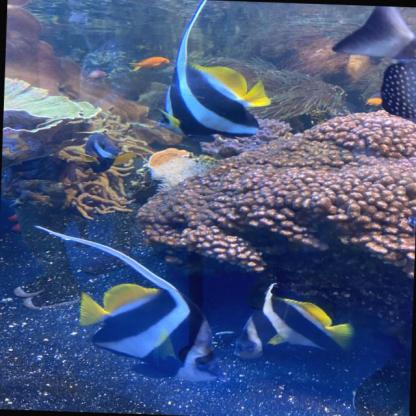fish: (78, 281, 230, 383), (329, 4, 415, 130), (156, 61, 272, 144), (234, 295, 354, 362), (74, 132, 135, 174), (127, 56, 170, 73), (86, 70, 108, 80), (366, 97, 382, 106)
